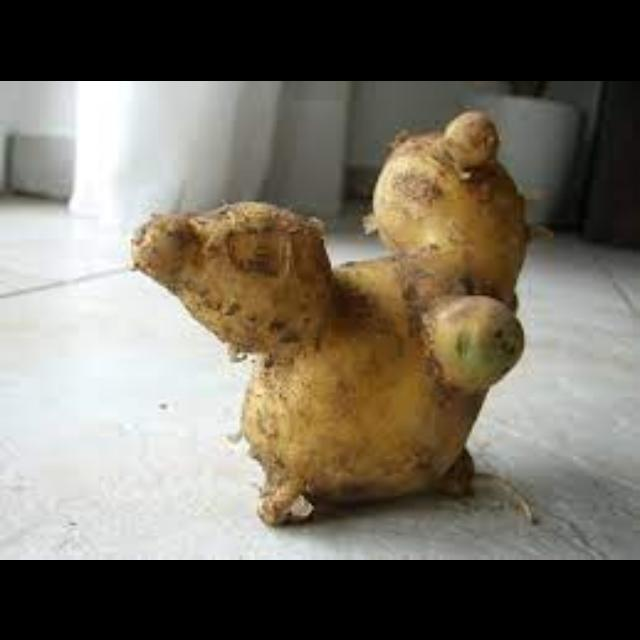Damaged potato: (138, 104, 532, 532)
